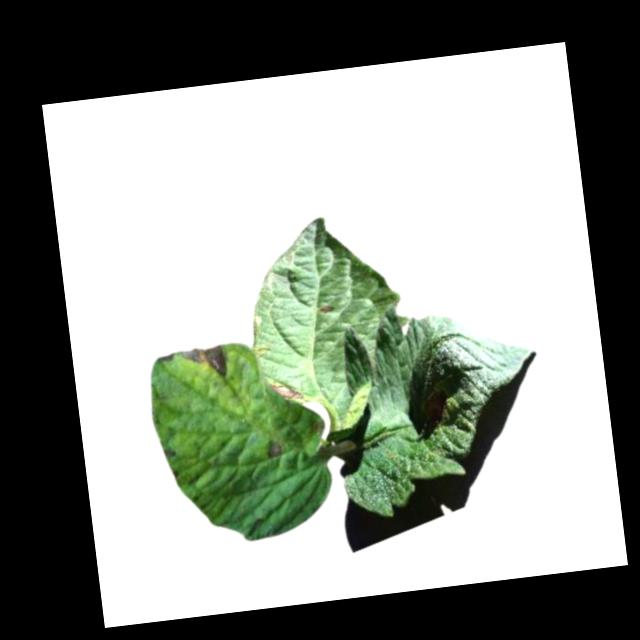Early_blight: (158, 343, 228, 385), (265, 374, 304, 405), (264, 436, 283, 459), (318, 301, 335, 315)
